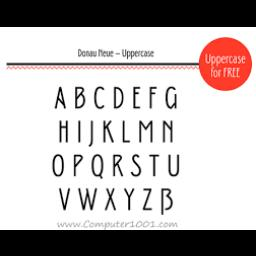i: (56, 118, 72, 144), (72, 118, 84, 142)
